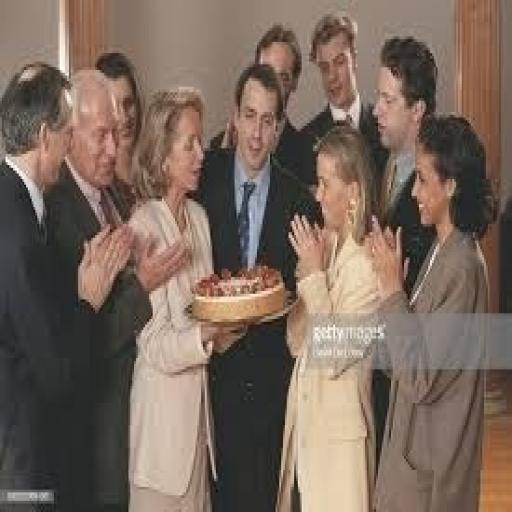clapping: (0, 17, 499, 506)
